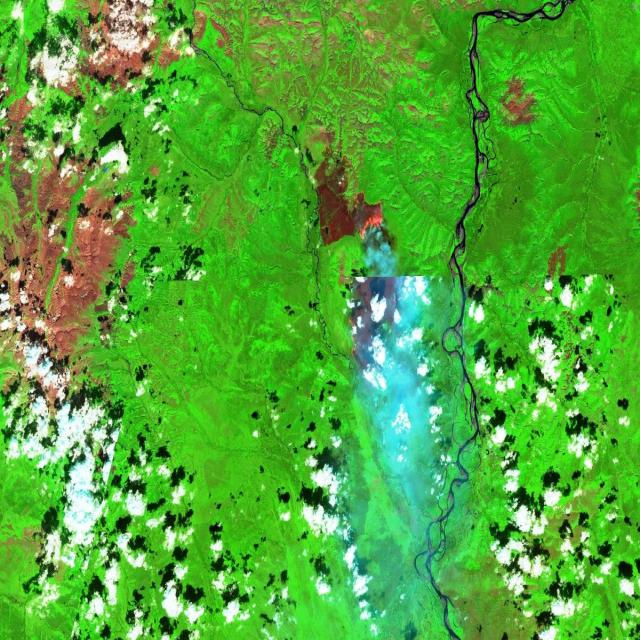fire: (351, 187, 386, 244)
